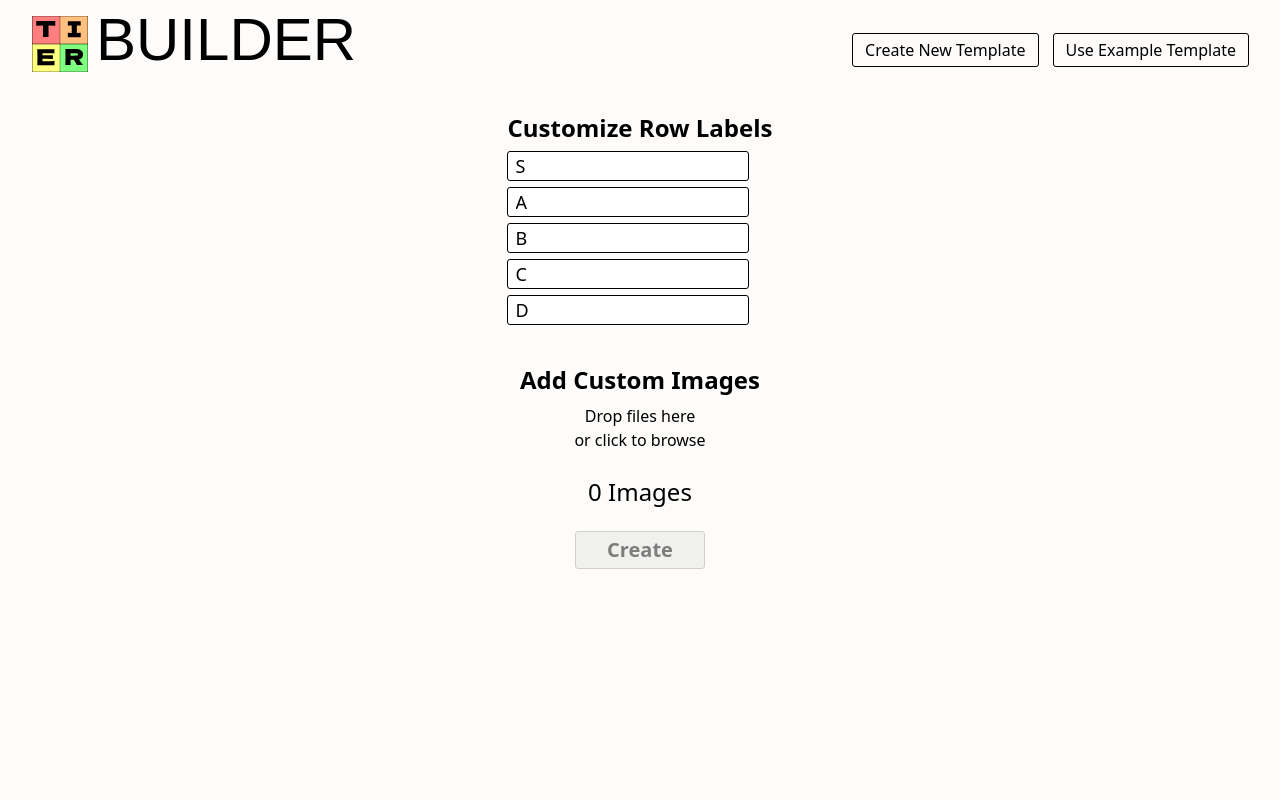
Scenario: Create Tierbuilder page › Handles label changes
Double-click the 1st field showing "S": (628, 166) [508, 152, 748, 180]
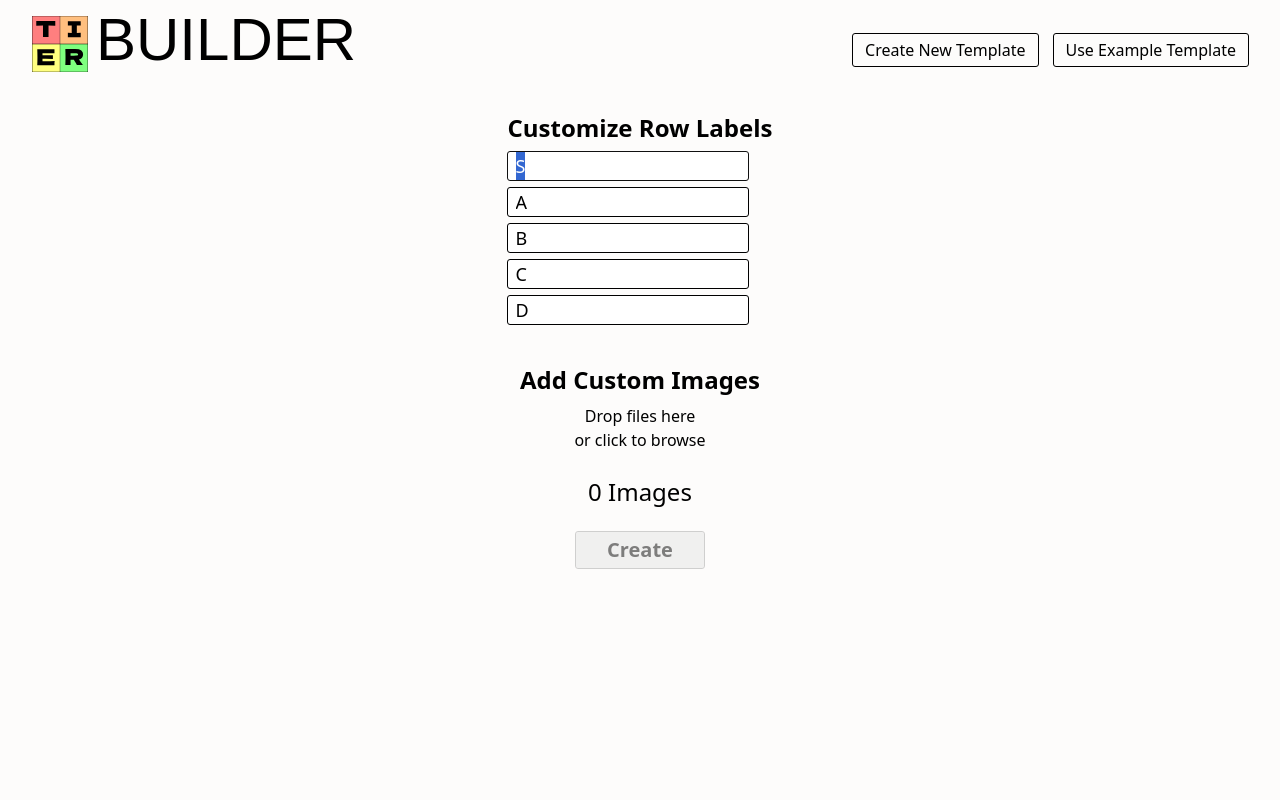
Type keys "Renamed"
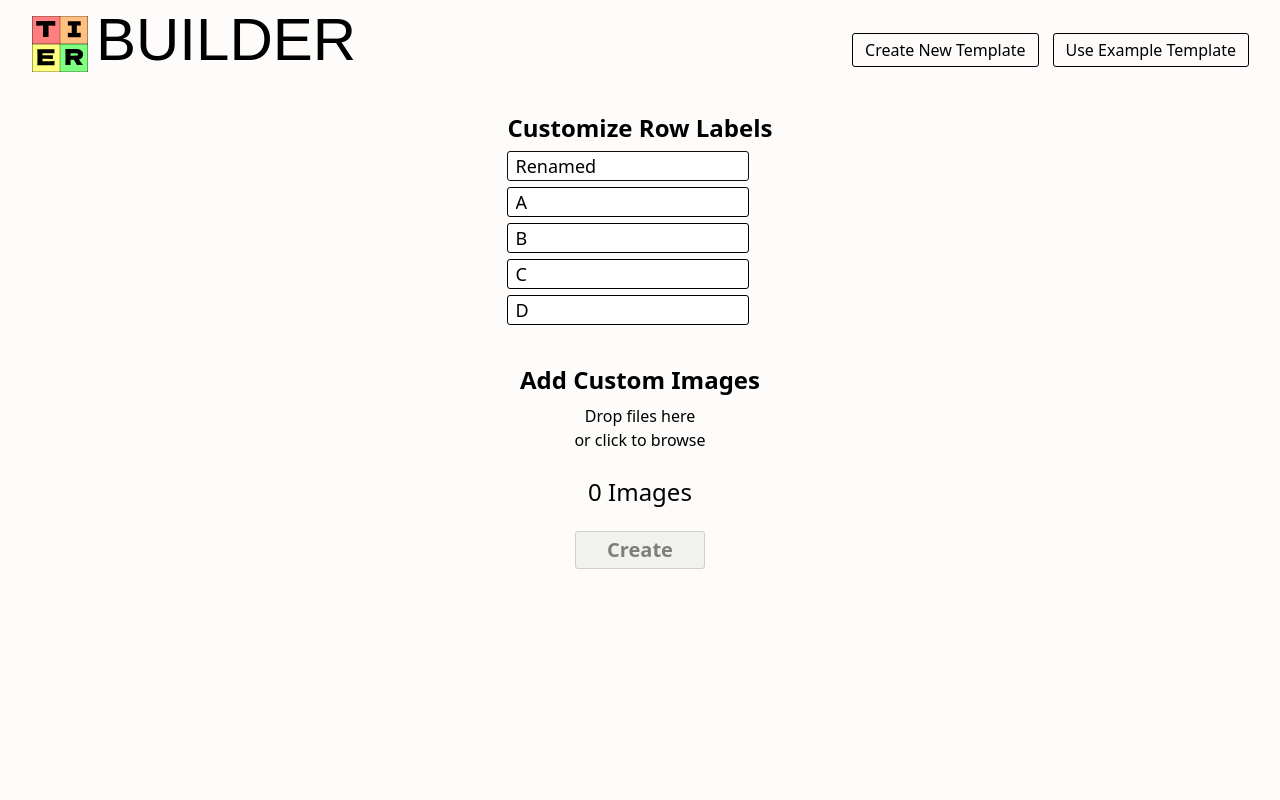
Expected: the 1st field showing "S" holds "Renamed", [508, 152, 748, 180]
